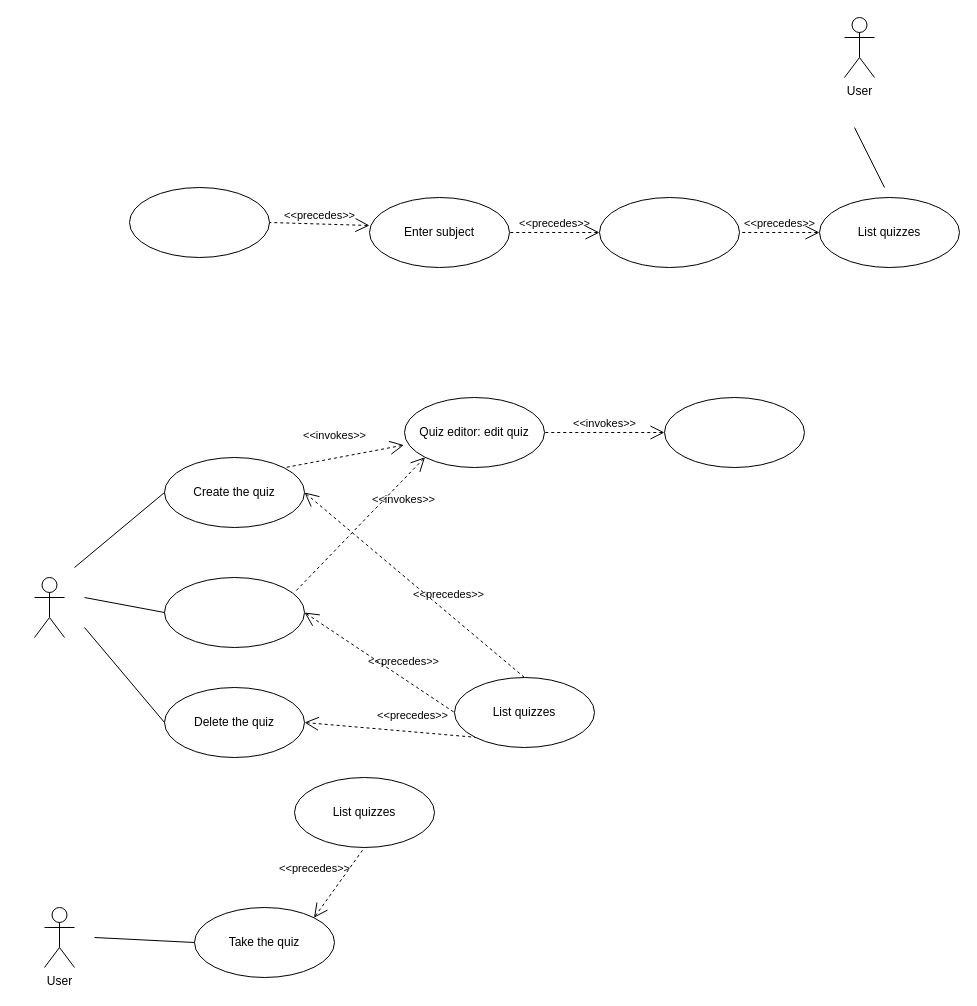
This 977x1006 diagram has some shape labels left out. The shapes that lost their labels are listed below. From the top down, each one's centre as x and y in pixels, then its label:
At pixel 199 222: "Login".
At pixel 669 232: "Enter topic".
At pixel 734 432: "Edit question".
At pixel 49 607: "Topic owner".
At pixel 234 612: "Edit the quiz".
